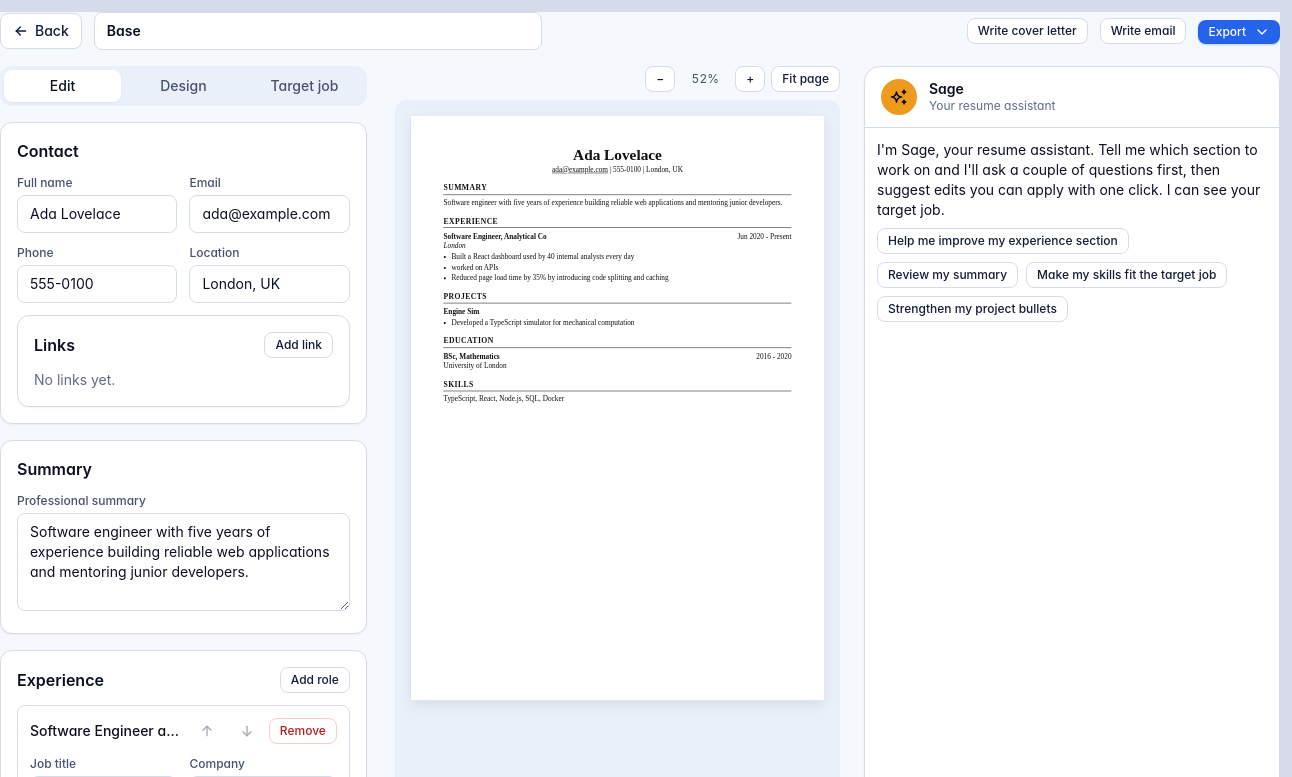
Test: editor and preview › edits live in the preview and autosaves to the store
Replace the text in the field labelled "Full name" with "Ada King". click: (97, 214)
box: [17, 195, 178, 233]
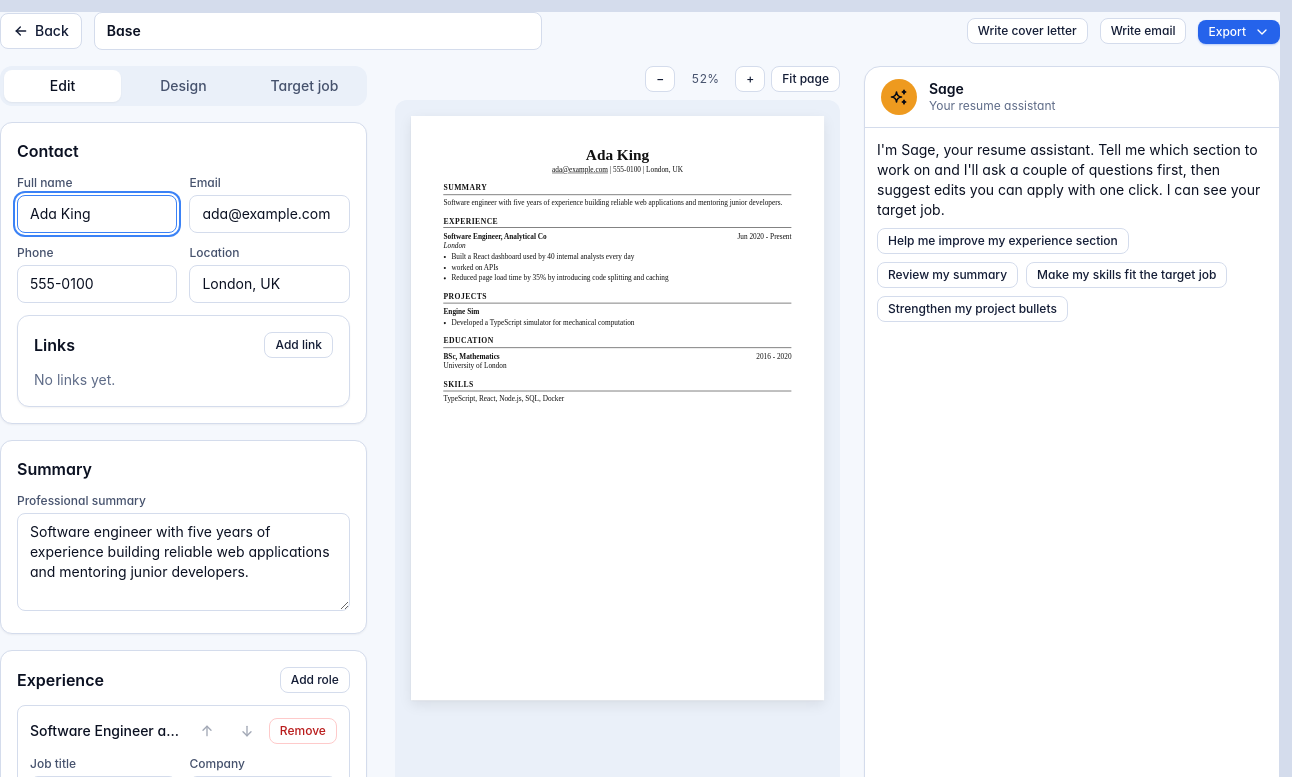
expect the heading "Ada King" is shown: met, box [586, 146, 649, 163]
